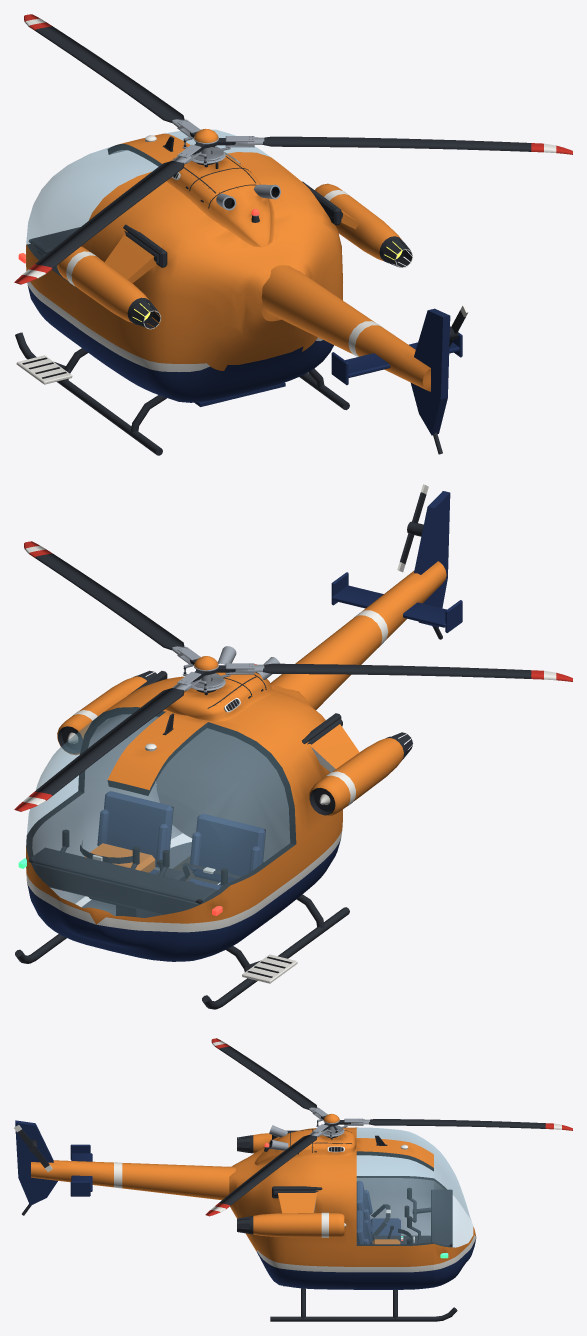
The model's file is helicopter_boarding.glb.
3 views of the same model, one above another, from view 1: azimuth 30°, elevation 25°; view 2: azimuth 150°, elevation 25°; view 3: azimuth 270°, elevation 25° (orthographic). The views are drawn at different scales.
Parts seen in each view (by area): view 1: Body, Door_L, MainRotorBlades, Windows, JetPod_L, FrameAndSkids, JetPod_R, MainRotor, Step_L, Interior, JetNozzle_L, JetNozzle_R; view 2: Body, Windows, Interior, Door_L, MainRotorBlades, Door_R, JetPod_L, Seat_L, Seat_R, FrameAndSkids, JetPod_R, MainRotor (+2 smaller); view 3: Body, Door_R, Door_L, MainRotorBlades, JetPod_R, Windows, FrameAndSkids, Interior, Seat_L, MainRotor, Seat_R, TailRotor.
Boxes of the visible parts, x1,y1,x2,y2 form: Body: [26, 133, 462, 454]; Door_L: [26, 144, 161, 357]; MainRotorBlades: [14, 14, 572, 284]; Windows: [26, 136, 195, 244]; JetPod_L: [57, 231, 159, 325]; FrameAndSkids: [15, 181, 349, 455]; JetPod_R: [315, 183, 405, 263]; MainRotor: [172, 119, 264, 164]; Step_L: [16, 355, 72, 384]; Interior: [28, 227, 80, 268]; JetNozzle_L: [131, 300, 160, 329]; JetNozzle_R: [383, 239, 412, 267]; Body: [26, 491, 462, 961]; Windows: [26, 777, 229, 917]; Interior: [28, 716, 290, 918]; Door_L: [150, 722, 296, 955]; MainRotorBlades: [14, 541, 572, 811]; Door_R: [27, 707, 164, 897]; JetPod_L: [307, 718, 405, 816]; Seat_L: [189, 813, 265, 889]; Seat_R: [89, 791, 173, 905]; FrameAndSkids: [15, 671, 349, 1009]; JetPod_R: [57, 675, 149, 754]; MainRotor: [172, 646, 264, 692]; Body: [15, 1120, 476, 1289]; Door_R: [356, 1151, 433, 1288]; Door_L: [356, 1127, 433, 1230]; MainRotorBlades: [205, 1038, 572, 1216]; JetPod_R: [249, 1190, 346, 1237]; Windows: [434, 1146, 472, 1247]; FrameAndSkids: [270, 1130, 457, 1321]; Interior: [356, 1189, 452, 1246]; Seat_L: [356, 1180, 400, 1244]; MainRotor: [309, 1107, 369, 1137]; Seat_R: [356, 1210, 372, 1244]; TailRotor: [14, 1125, 52, 1171].
Bounding box in the file's own units: 9.24 × 4.3 × 12.28.
